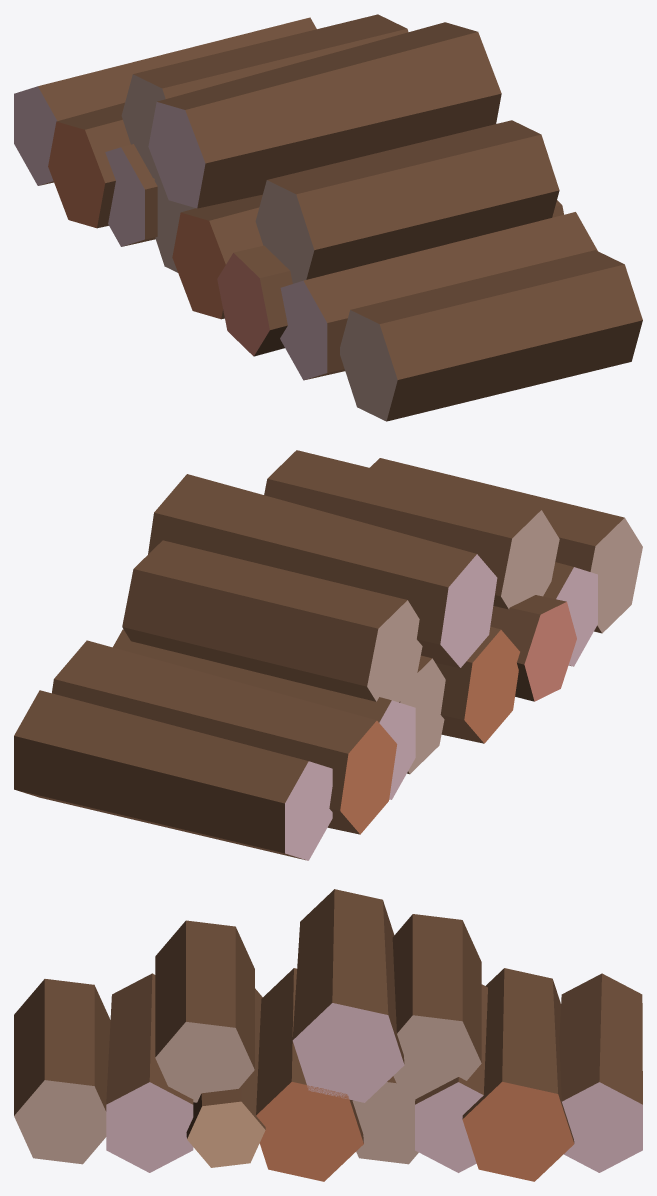
File: lenha_baixa_pacote.glb
3 renders of one model, top to bottom at view 1: azimuth 30°, elevation 25°; view 2: azimuth 150°, elevation 25°; view 3: azimuth 270°, elevation 25°, orthographic. The views are drawn at different scales.
Visible parts, largest first — view 1: lenha_baixa_pacote; view 2: lenha_baixa_pacote; view 3: lenha_baixa_pacote.
Part boxes in pixels (box(x1,y1,x2,y2)): lenha_baixa_pacote: box(14, 14, 642, 421); lenha_baixa_pacote: box(14, 450, 642, 860); lenha_baixa_pacote: box(14, 889, 642, 1181).
Bounding box in the file's own units: 0.4811 × 0.3171 × 1.01.
Materials: 1 (1 with a texture image).
